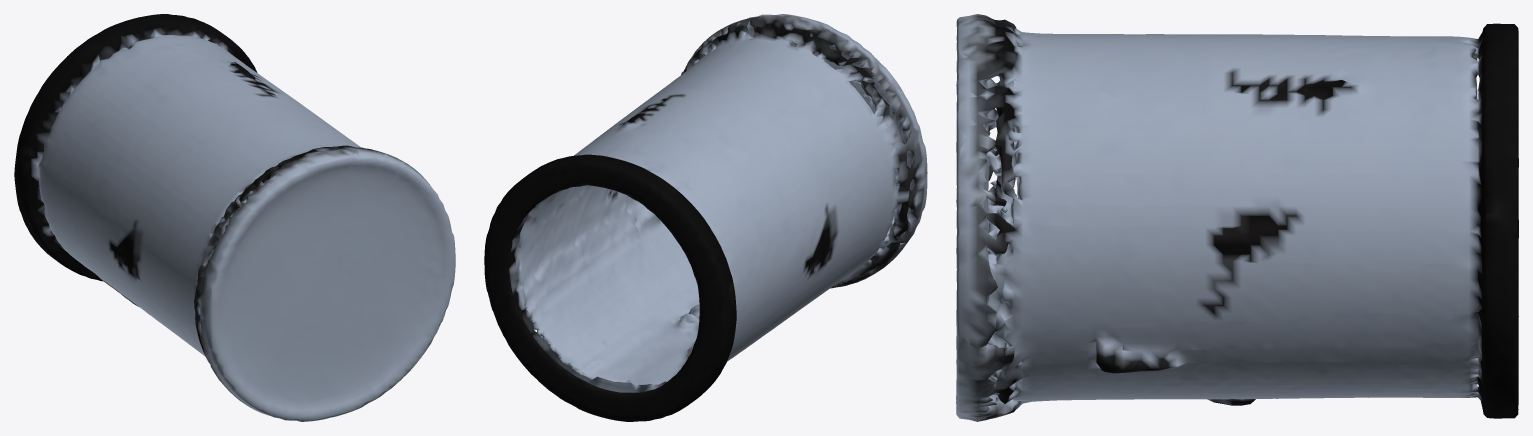
The model's file is a trash can with affordances of contain, pour, open .obj.
3 views of the same model, side by side, from view 1: azimuth 30°, elevation 25°; view 2: azimuth 150°, elevation 25°; view 3: azimuth 270°, elevation 25° (orthographic). The views are drawn at different scales.
Size of the model in its own units: 0.7231 by 0.726 by 1.
